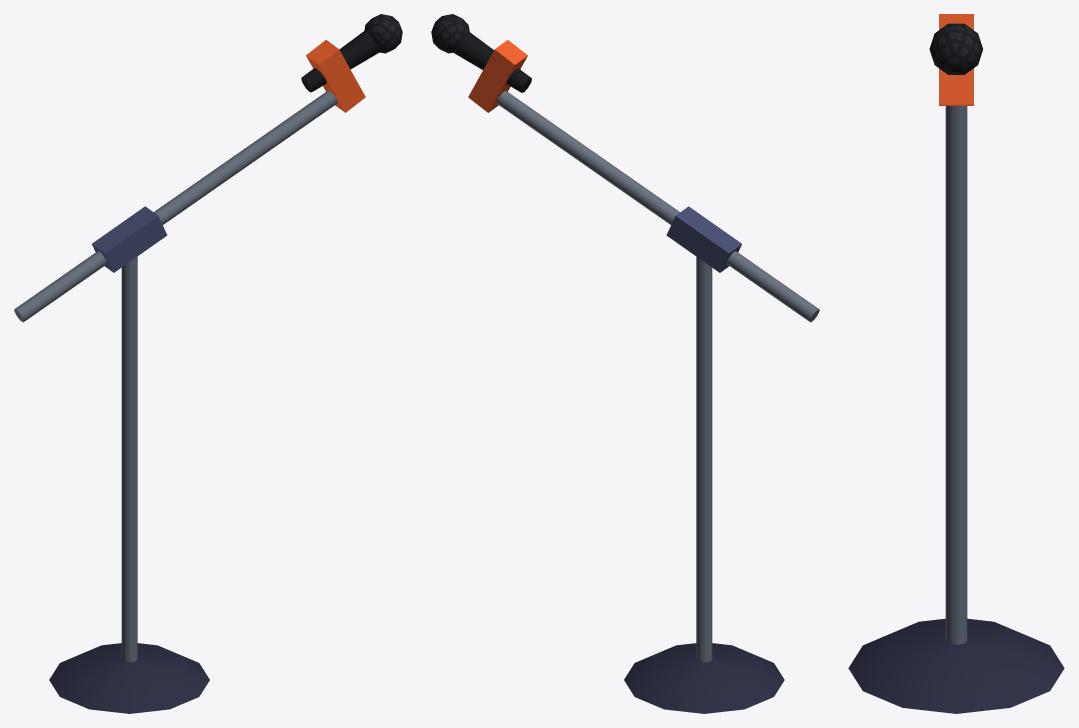
Rendered from Microfone.fbx.
3 views of the same model, side by side, from view 1: azimuth 30°, elevation 25°; view 2: azimuth 150°, elevation 25°; view 3: azimuth 270°, elevation 25° (orthographic). The views are drawn at different scales.
Visible parts, largest first — view 1: Microfone; view 2: Microfone; view 3: Microfone.
Boxes of the visible parts, box(x1,y1,x2,y2) form: Microfone: box(14, 14, 402, 713); Microfone: box(431, 14, 819, 713); Microfone: box(848, 14, 1064, 713).
Size of the model in its own units: 351 by 527 by 127.
1 material, 1 textured.
